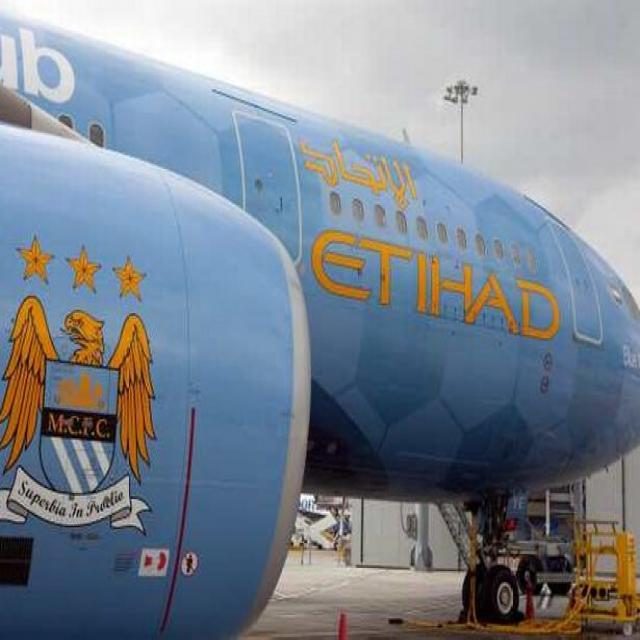Etihad Airways: (299, 137, 559, 340)
